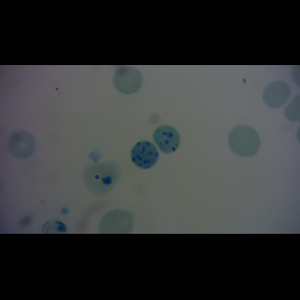aggregate reticulocyte: (130, 140, 159, 170), (152, 124, 181, 154)
erythrocyte: (228, 125, 261, 157), (112, 66, 144, 95), (262, 79, 292, 109), (6, 131, 37, 159)
